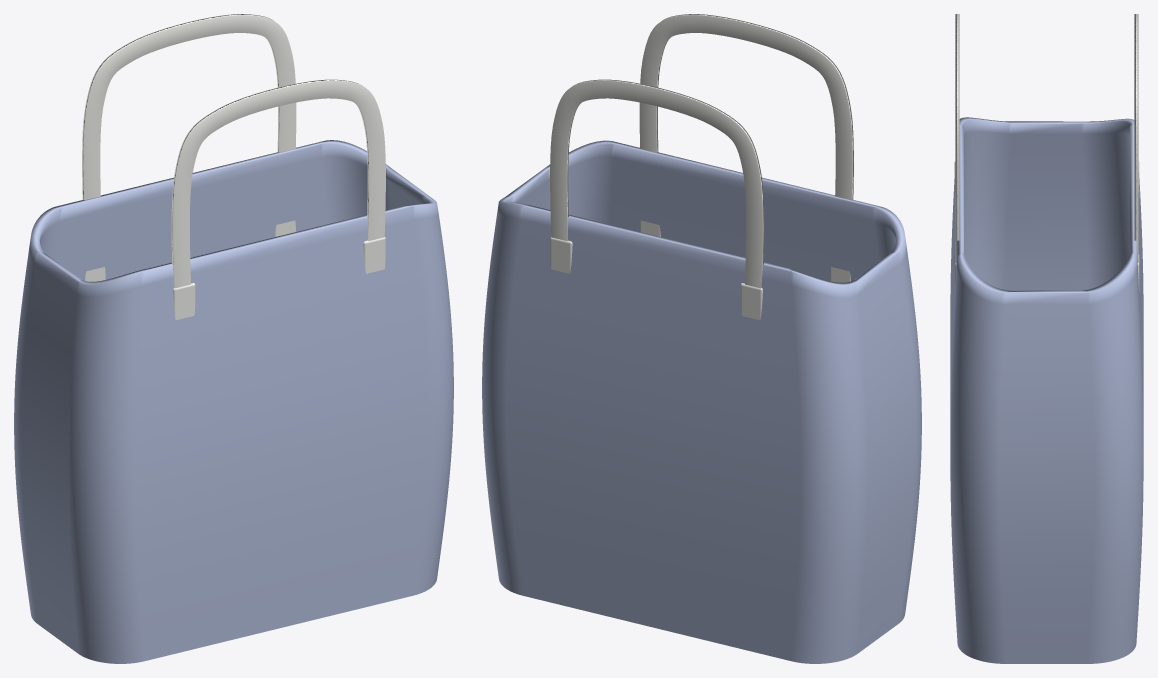
File: shopping-tote.glb
The picture shows the model from 3 angles, left to right: view 1: azimuth 30°, elevation 25°; view 2: azimuth 150°, elevation 25°; view 3: azimuth 270°, elevation 25°; orthographic projection.
Parts seen in each view (by area): view 1: continuous-open-canvas-tote, flat-woven-attached-carry-strap (×2), sewn-handle-anchor (×2); view 2: continuous-open-canvas-tote, flat-woven-attached-carry-strap (×2), sewn-handle-anchor (×2); view 3: continuous-open-canvas-tote, flat-woven-attached-carry-strap (×2).
Boxes of the visible parts, bbox=[...] form: continuous-open-canvas-tote: bbox=[14, 140, 453, 663]; flat-woven-attached-carry-strap (×2): bbox=[82, 14, 385, 288]; sewn-handle-anchor (×2): bbox=[173, 237, 385, 320]; continuous-open-canvas-tote: bbox=[482, 140, 921, 663]; flat-woven-attached-carry-strap (×2): bbox=[550, 14, 853, 288]; sewn-handle-anchor (×2): bbox=[550, 237, 762, 320]; continuous-open-canvas-tote: bbox=[950, 117, 1143, 663]; flat-woven-attached-carry-strap (×2): bbox=[955, 14, 1138, 262].
Bounding box in the file's own units: 1.46 × 2 × 0.6457.
